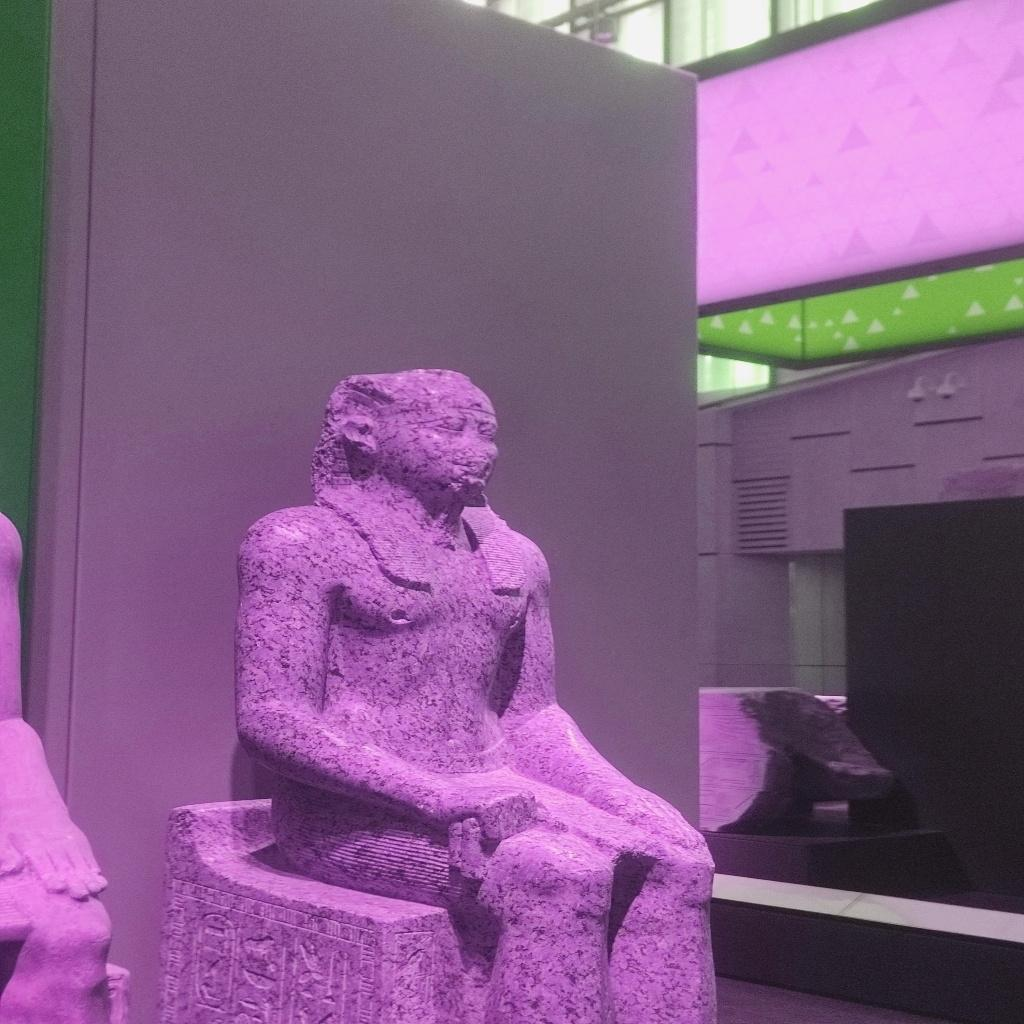Statue of Amenmhat I: (228, 364, 722, 1021)
